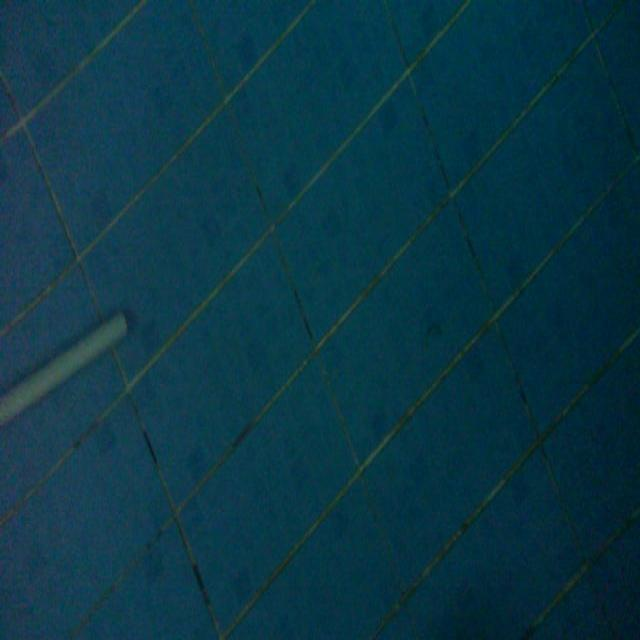Cube: (0, 306, 129, 430)
